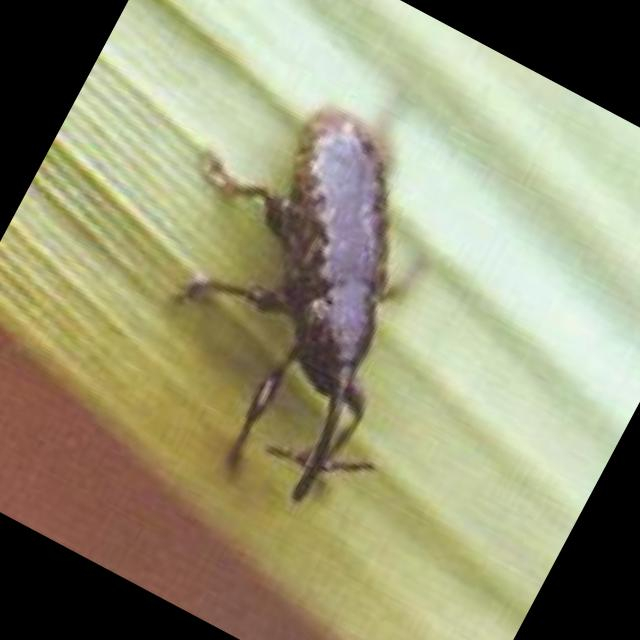rice-bug: (117, 78, 498, 524)
